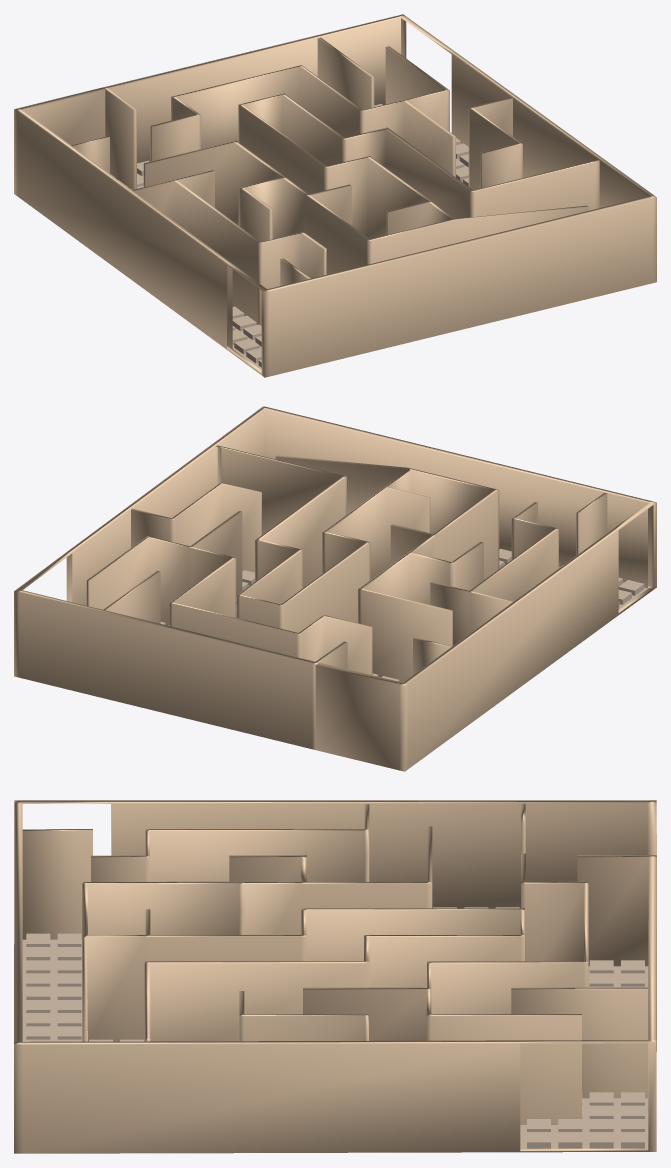
File: Labyrinth_And_Cells 1.fbx
The picture shows the model from 3 angles, top to bottom: view 1: azimuth 30°, elevation 25°; view 2: azimuth 150°, elevation 25°; view 3: azimuth 270°, elevation 25°; orthographic projection. The views are drawn at different scales.
Visible parts, largest first — view 1: Cube_001; view 2: Cube_001; view 3: Cube_001.
Boxes of the visible parts, x1,y1,x2,y2 form: Cube_001: (14,14,656,377); Cube_001: (14,406,656,771); Cube_001: (14,800,656,1153).
Bounding box in the file's own units: 2407 × 499 × 2671.
